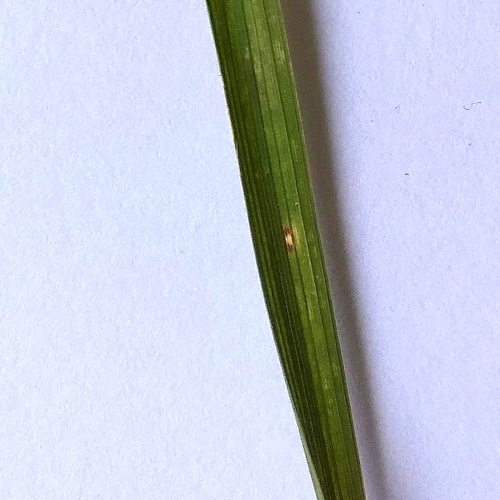Busuk Leher: (276, 220, 302, 256)
